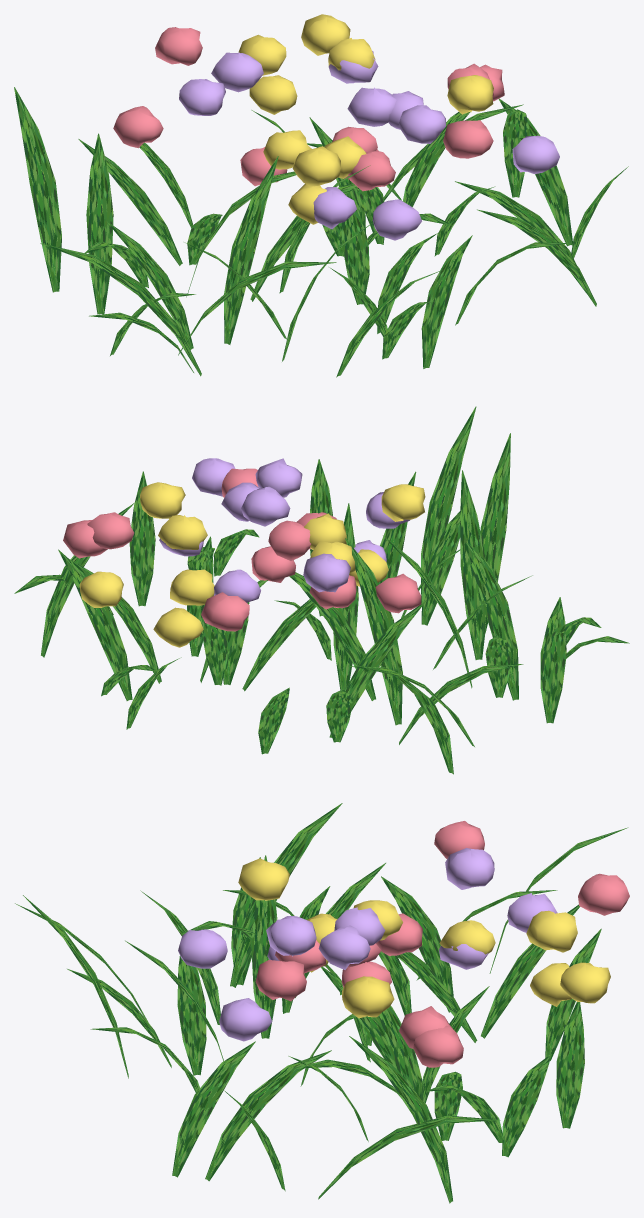
File: nat_flower_bed.glb
The picture shows the model from 3 angles, top to bottom: view 1: azimuth 30°, elevation 25°; view 2: azimuth 150°, elevation 25°; view 3: azimuth 270°, elevation 25°; orthographic projection. The views are drawn at different scales.
Visible parts, largest first — view 1: foliage, blooms_2, blooms_1, blooms_0; view 2: foliage, blooms_1, blooms_0, blooms_2; view 3: foliage, blooms_2, blooms_1, blooms_0.
Part boxes in pixels (bbox=[...]): foliage: bbox=[14, 87, 628, 377]; blooms_2: bbox=[179, 51, 559, 240]; blooms_1: bbox=[238, 14, 493, 224]; blooms_0: bbox=[113, 27, 504, 191]; foliage: bbox=[14, 406, 629, 774]; blooms_1: bbox=[79, 482, 425, 647]; blooms_0: bbox=[63, 468, 421, 631]; blooms_2: bbox=[159, 458, 410, 602]; foliage: bbox=[15, 803, 628, 1203]; blooms_2: bbox=[178, 848, 557, 1041]; blooms_1: bbox=[238, 858, 610, 1018]; blooms_0: bbox=[255, 821, 629, 1067].
Size of the model in its own units: 1.9 by 0.6483 by 1.79.
4 materials, 1 textured.
